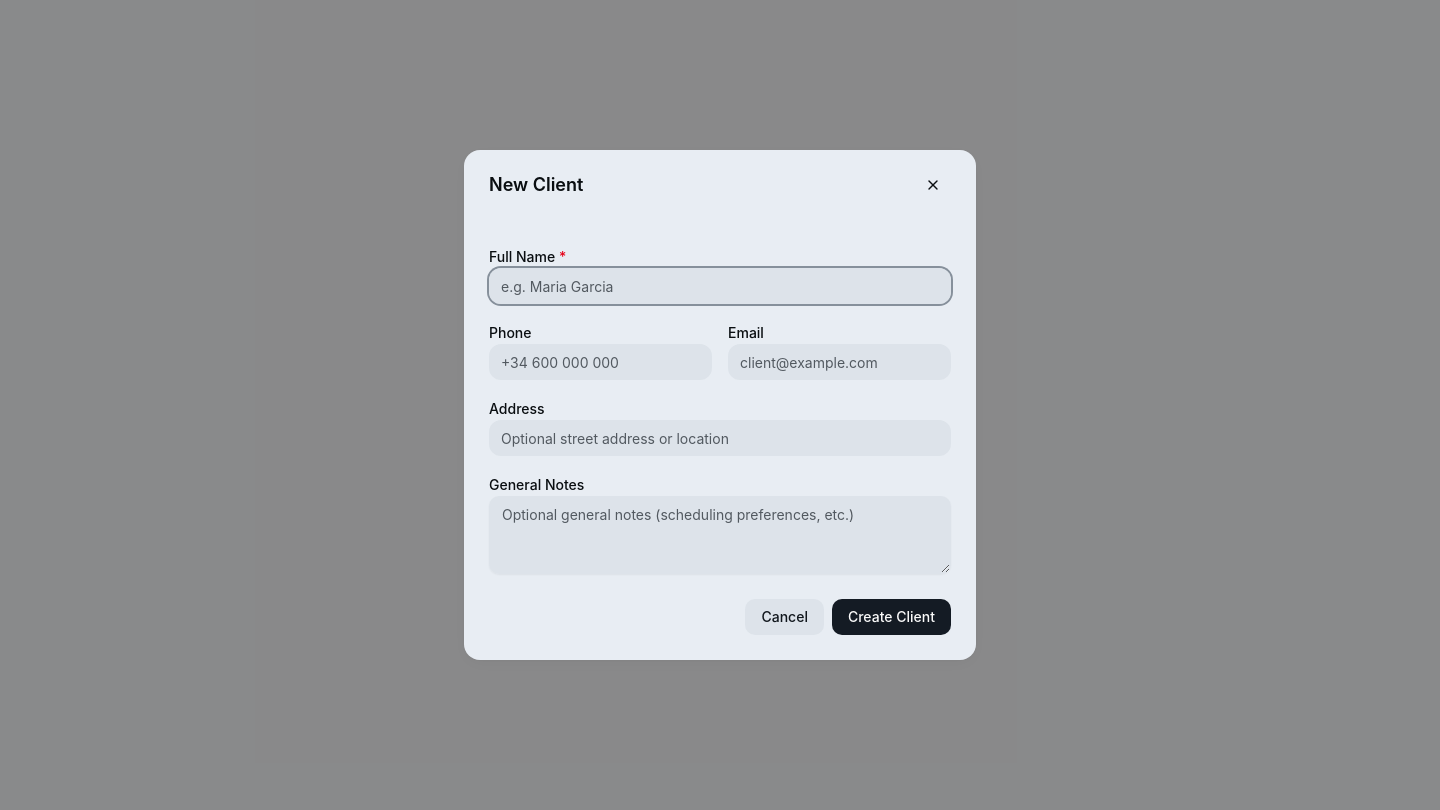
Test: ClientFormDialog › surfaces backend errors clearly without closing the dialog
Step 1. Type "Sofia Navarro" into the field labelled "Full Name *" → (720, 286), box [489,268,951,304]
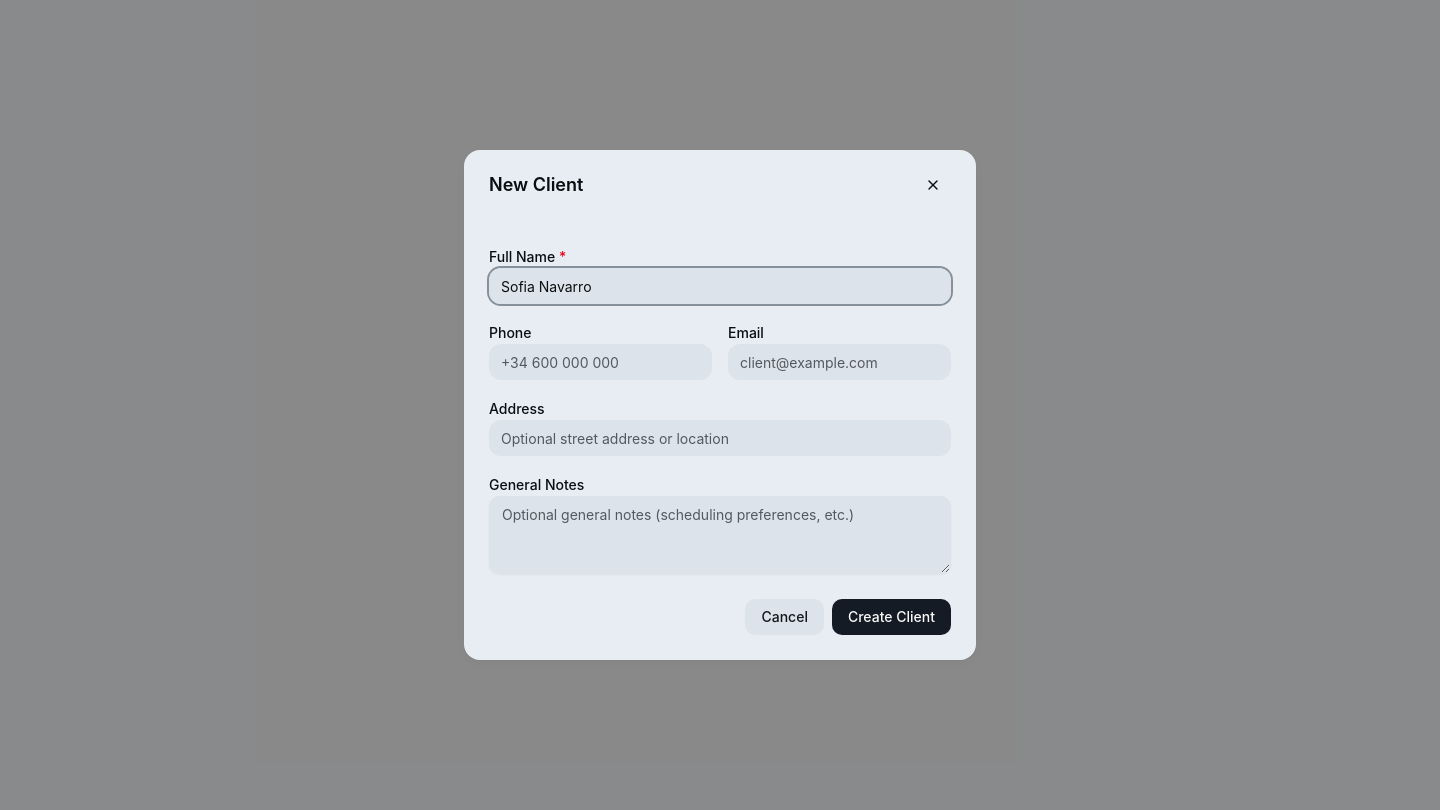
Step 2. Click the button "Create Client" → click(892, 617), box [832,599,951,635]
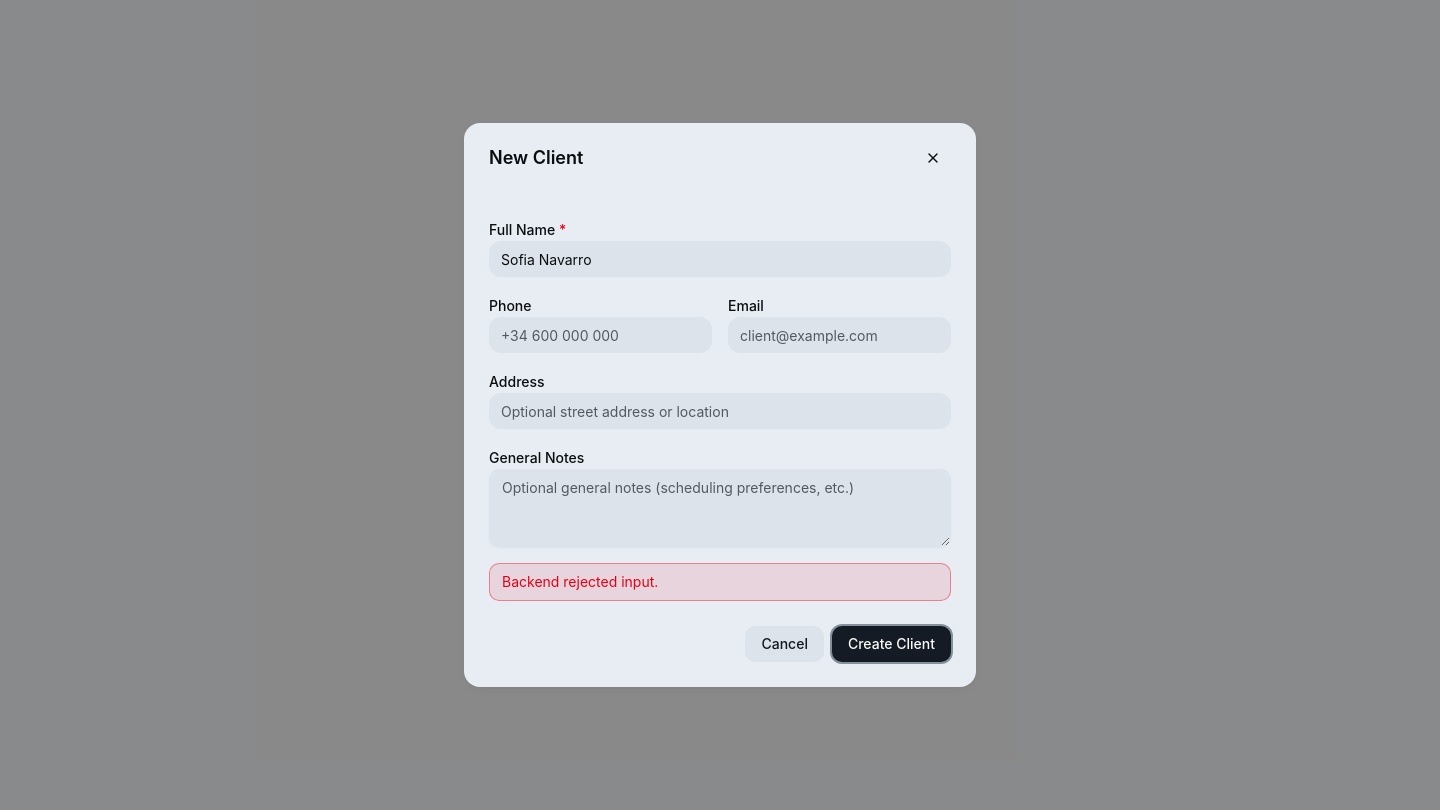
Expected: the text "Backend rejected input." is shown, [489,563,951,601]
